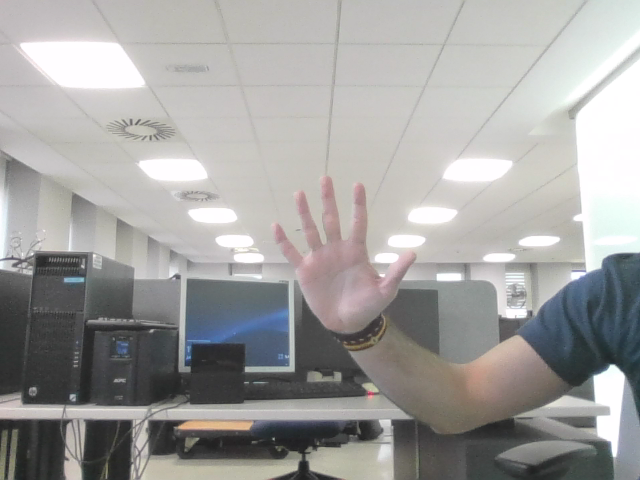Mano Abierta: (282, 187, 404, 306)
